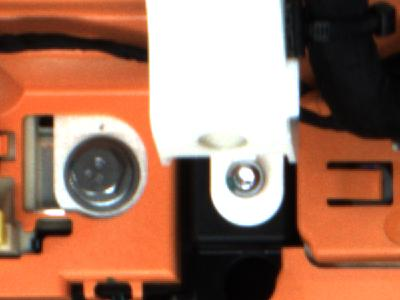nut_b: (59, 137, 148, 213)
